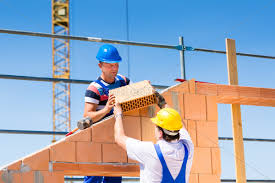helmet: (152, 107, 182, 131), (97, 44, 122, 63)
